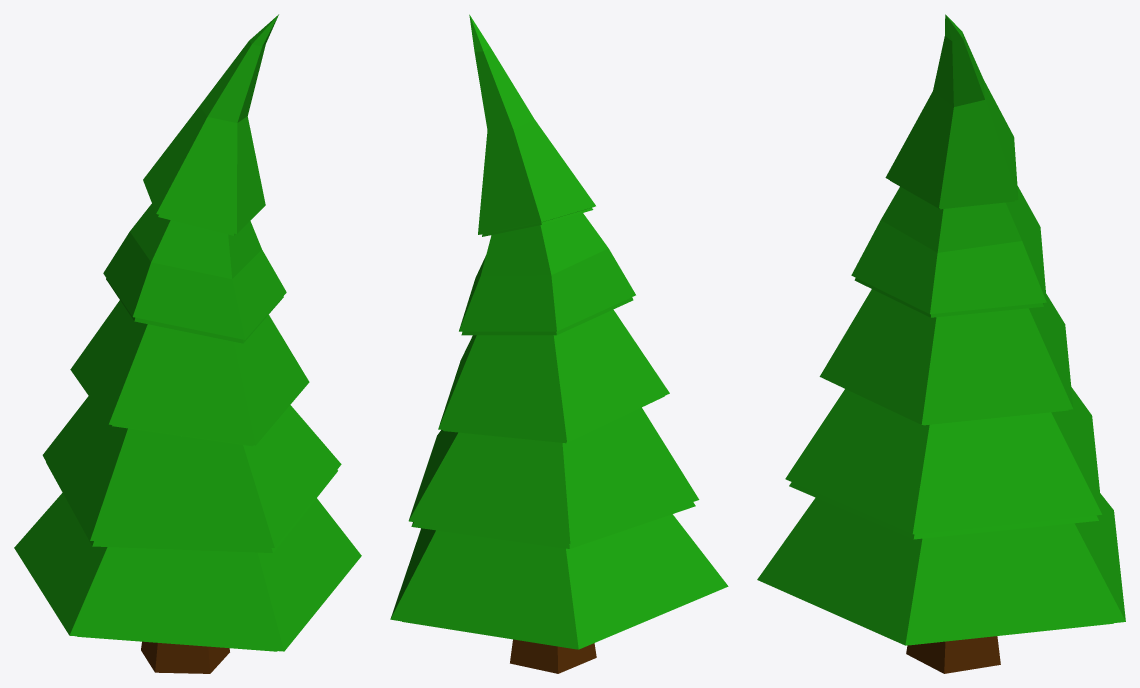
File: PineTree.fbx
3 renders of one model, left to right at view 1: azimuth 30°, elevation 25°; view 2: azimuth 150°, elevation 25°; view 3: azimuth 270°, elevation 25°, orthographic. The views are drawn at different scales.
Visible parts, largest first — view 1: Cylinder.001; view 2: Cylinder.001; view 3: Cylinder.001.
Part boxes in pixels (<box>): Cylinder.001: <box>14,14,361,673</box>; Cylinder.001: <box>390,14,728,673</box>; Cylinder.001: <box>757,14,1125,673</box>.
Bounding box in the file's own units: 205 × 407 × 198.
